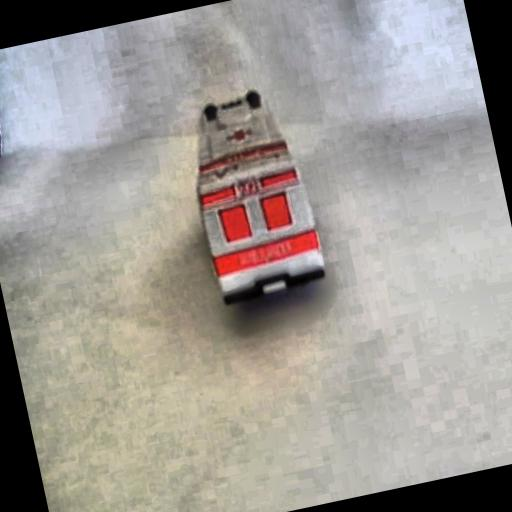ambulance: (176, 82, 329, 307)
